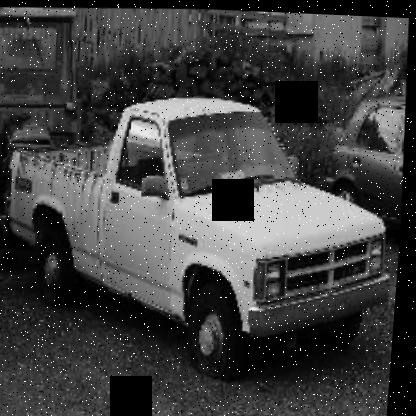not_emergency: (0, 80, 410, 367)
